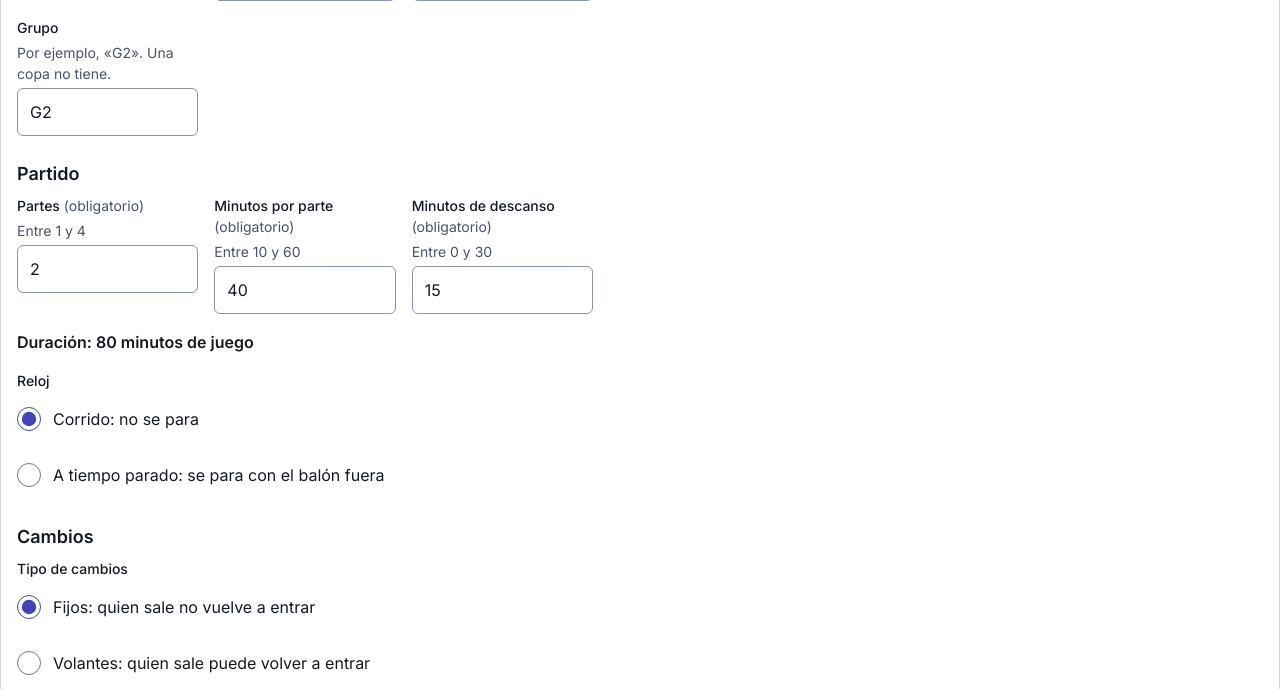
Test case: A08 · Reglamento › un valor fuera de rango se para junto a su campo
The width and height of the screenshot is (1280, 689).
(page scrolled)
Replace the text in the field labelled "Minutos por parte (obligatorio)" with "90" at x=305, y=290, box [214,266,396,314]
(page scrolled)
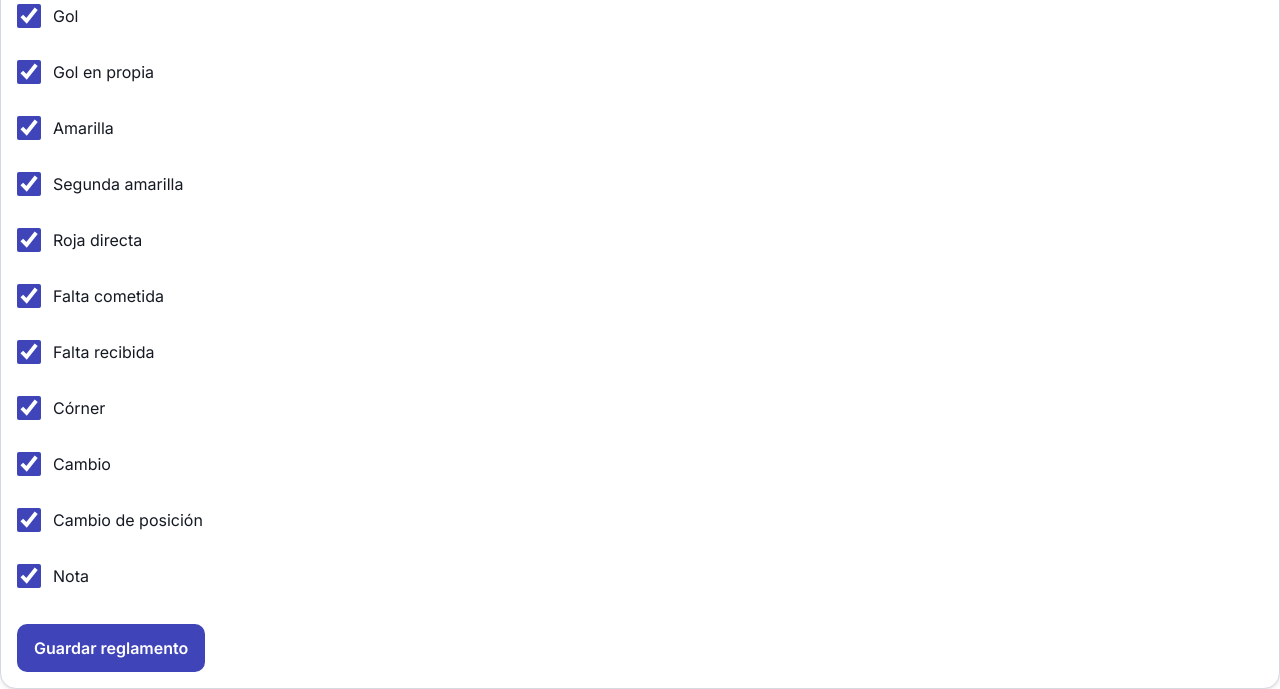
Click the button "Guardar reglamento" at x=111, y=648, box [17,624,205,672]
(page scrolled)
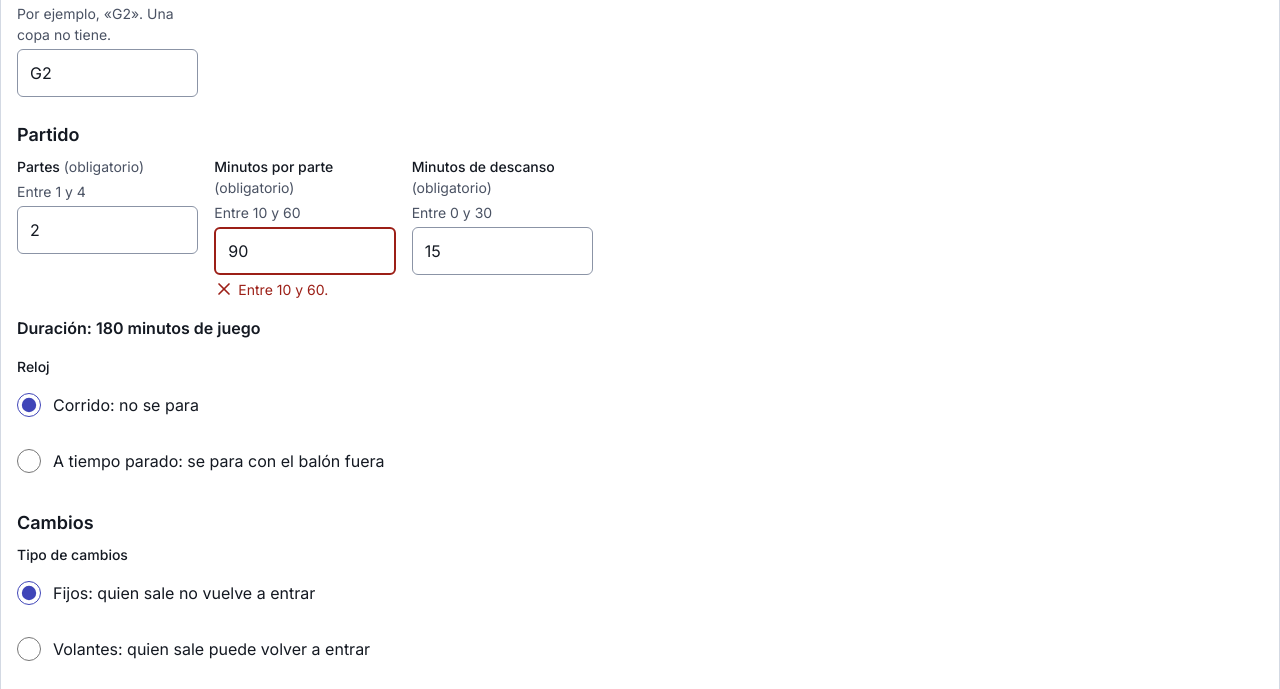
Expected: the text "Entre 10 y 60." is shown, [238,279,328,300]
